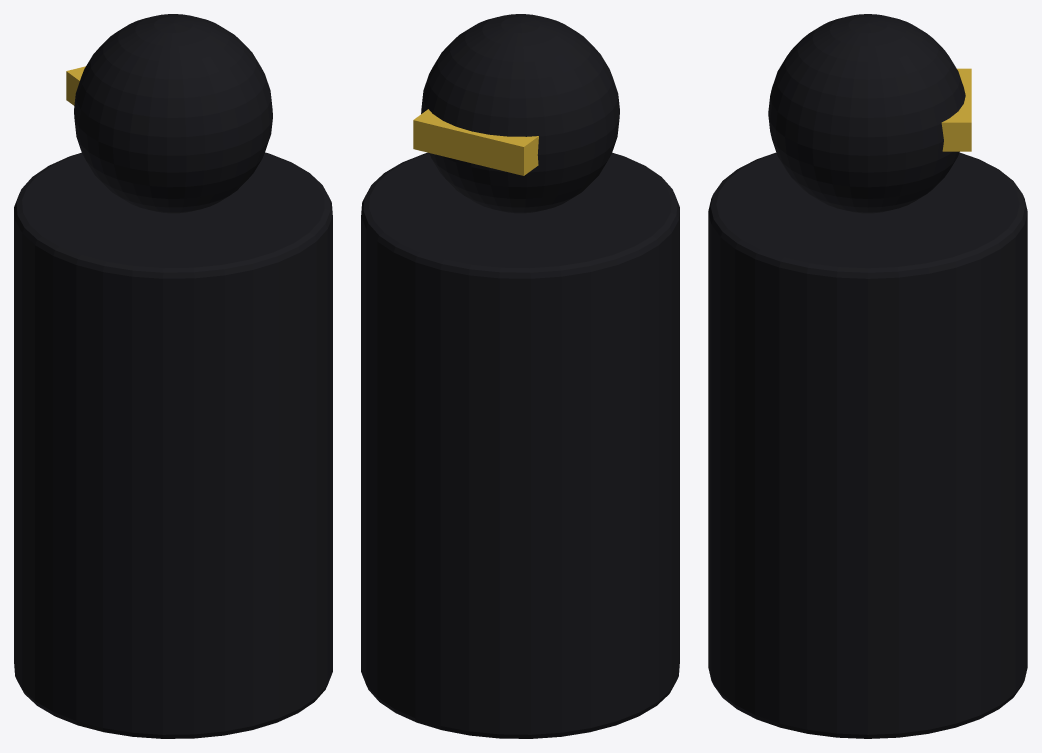
The model's file is thief_pawn.glb.
3 views of the same model, side by side, from view 1: azimuth 30°, elevation 25°; view 2: azimuth 150°, elevation 25°; view 3: azimuth 270°, elevation 25° (orthographic).
Parts seen in each view (by area): view 1: Thief_Body, Thief_Head; view 2: Thief_Body, Thief_Head, Thief_Mask; view 3: Thief_Body, Thief_Head, Thief_Mask.
Boxes of the visible parts, x1=… form: Thief_Body: x1=14, y1=152, x2=332, y2=738; Thief_Head: x1=74, y1=14, x2=272, y2=213; Thief_Body: x1=361, y1=152, x2=679, y2=738; Thief_Head: x1=421, y1=14, x2=619, y2=213; Thief_Mask: x1=413, y1=109, x2=538, y2=175; Thief_Body: x1=708, y1=152, x2=1027, y2=738; Thief_Head: x1=768, y1=14, x2=965, y2=213; Thief_Mask: x1=941, y1=68, x2=971, y2=151.
Bounding box in the file's own units: 0.8 × 1.8 × 0.8.
